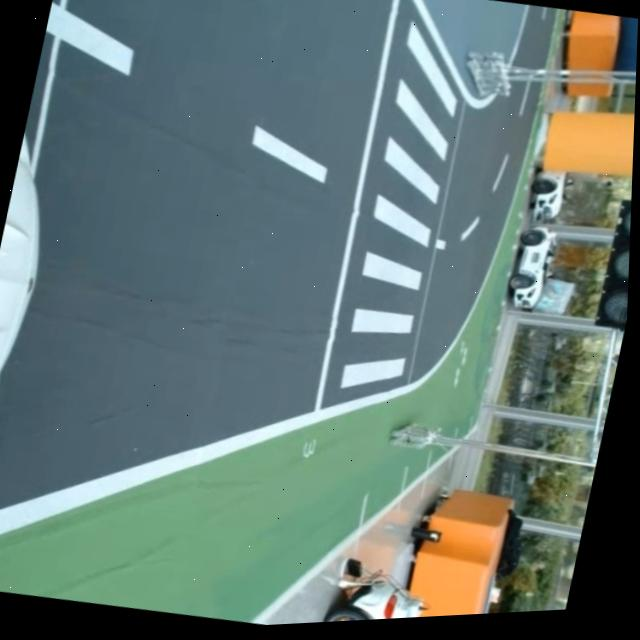traffic-light: (587, 191, 632, 335)
